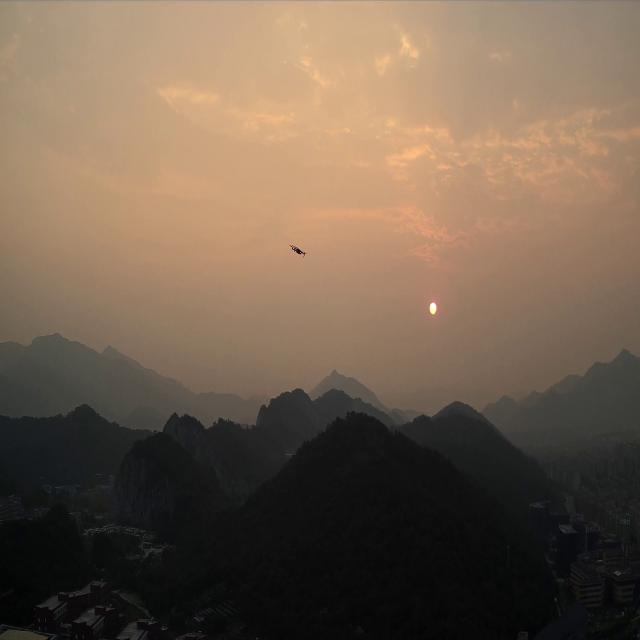drone: (289, 244, 307, 258)
